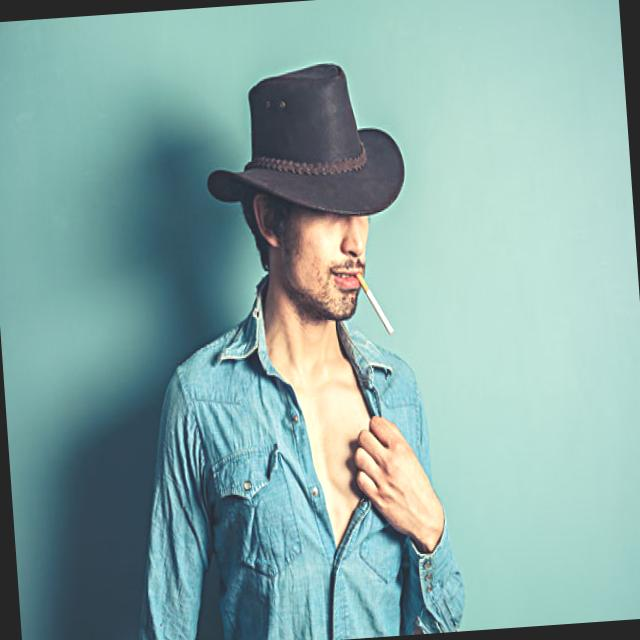cigarette: (356, 264, 394, 340)
